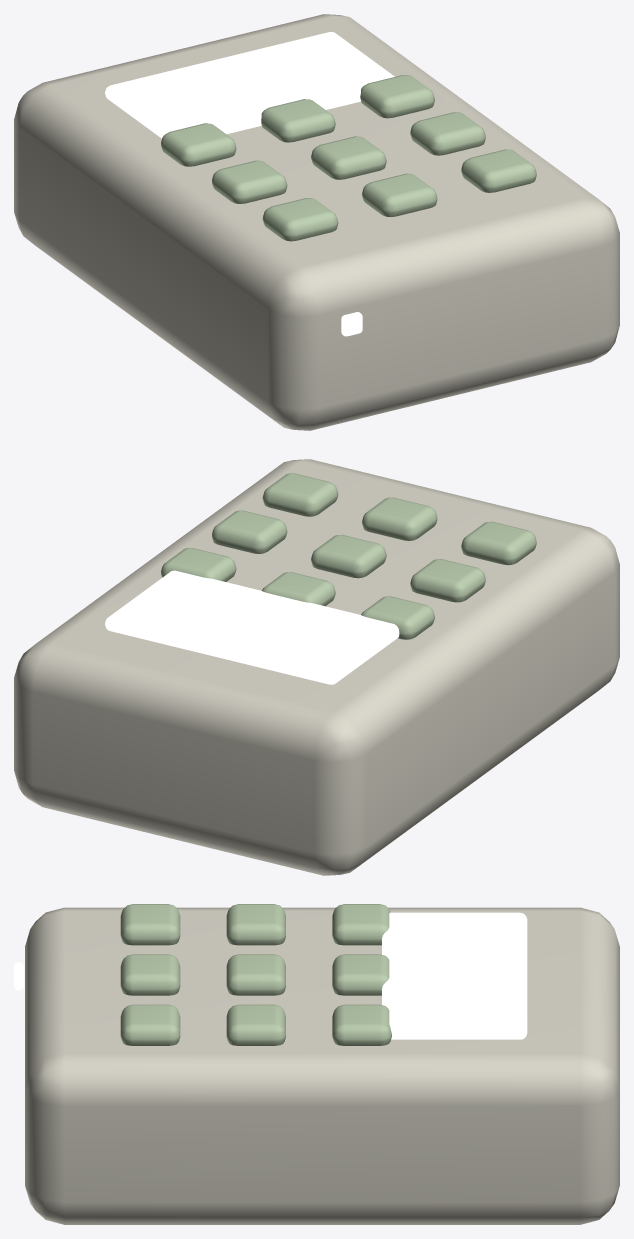
The model's file is officeCalculator.glb.
The picture shows the model from 3 angles, top to bottom: view 1: azimuth 30°, elevation 25°; view 2: azimuth 150°, elevation 25°; view 3: azimuth 270°, elevation 25°; orthographic projection. The views are drawn at different scales.
Parts seen in each view (by area): view 1: Device, Display, Button.006, Button.007, Button.004, Button, Button.002, Button.001, Button.003, Button.005, Button.008; view 2: Device, Display, Button.001, Button.003, Button.006, Button, Button.004, Button.007, Button.002, Button.008, Button.005; view 3: Device, Display, Button.006, Button.003, Button, Button.004, Button.007, Button.001, Button.008, Button.002, Button.005.
Part boxes in pixels (x1,y1,x2,y2): Device: [14, 14, 619, 430]; Display: [105, 32, 394, 138]; Button.006: [461, 149, 536, 192]; Button.007: [410, 112, 485, 155]; Button.004: [311, 136, 386, 179]; Button: [262, 198, 338, 241]; Button.002: [161, 123, 236, 166]; Button.001: [212, 160, 287, 203]; Button.003: [362, 173, 437, 216]; Button.005: [261, 99, 335, 142]; Button.008: [360, 75, 434, 118]; Device: [14, 459, 619, 875]; Display: [105, 570, 399, 684]; Button.001: [410, 559, 485, 602]; Button.003: [362, 497, 437, 540]; Button.006: [262, 473, 338, 516]; Button: [461, 521, 536, 565]; Button.004: [311, 534, 386, 578]; Button.007: [212, 510, 287, 553]; Button.002: [361, 596, 434, 639]; Button.008: [161, 548, 236, 581]; Button.005: [262, 572, 335, 606]; Device: [25, 907, 619, 1224]; Display: [382, 912, 527, 1039]; Button.006: [120, 1004, 180, 1045]; Button.003: [120, 954, 180, 995]; Button: [120, 904, 180, 945]; Button.004: [226, 954, 285, 995]; Button.007: [226, 1004, 285, 1045]; Button.001: [226, 904, 285, 945]; Button.008: [332, 1004, 391, 1045]; Button.002: [332, 904, 390, 945]; Button.005: [332, 954, 389, 995].
Bounding box in the file's own units: 0.63 × 0.31 × 0.9165.
